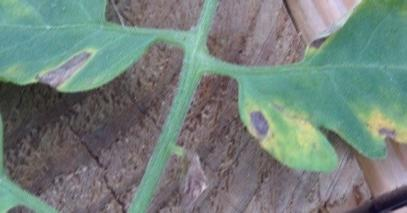Tomato leaf bacterial spot: (228, 0, 407, 180), (0, 0, 161, 109)
